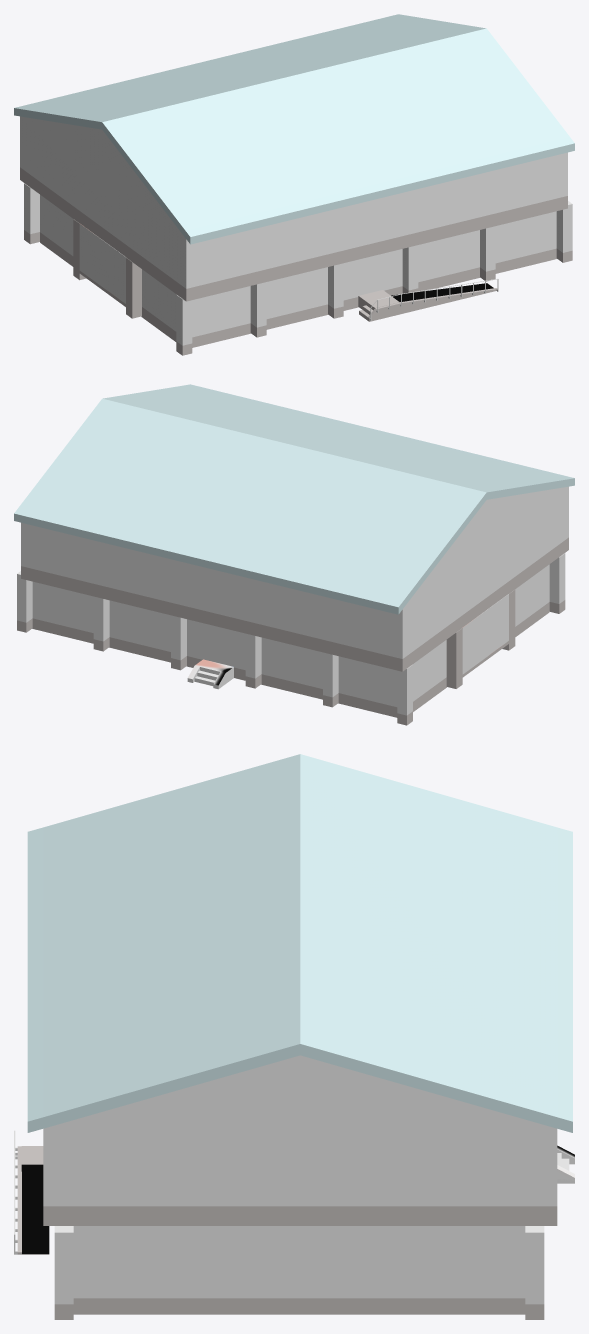
File: taiikukan.glb
3 renders of one model, top to bottom at view 1: azimuth 30°, elevation 25°; view 2: azimuth 150°, elevation 25°; view 3: azimuth 270°, elevation 25°, orthographic. The views are drawn at different scales.
Parts seen in each view (by area): view 1: 体育館屋根, 体育館本体, 体育館土台, 体育館・支柱, 体育館本体_2, 体育館・出っ張り, 体育館・真ん中出入り口土台, 体育館・真ん中出入り口手すり土台; view 2: 体育館屋根, 体育館本体, 体育館土台, 体育館・支柱, 体育館本体_2, 体育館・出っ張り, 体育館・真ん中出入り口・反対側・階段; view 3: 体育館屋根, 体育館本体, 体育館土台, 体育館本体_2, 体育館・支柱, 体育館・真ん中出入り口土台.
Boxes of the visible parts, x1=… form: 体育館屋根: x1=14, y1=14, x2=574, y2=244; 体育館本体: x1=20, y1=116, x2=567, y2=301; 体育館土台: x1=40, y1=195, x2=556, y2=347; 体育館・支柱: x1=24, y1=183, x2=572, y2=355; 体育館本体_2: x1=23, y1=117, x2=180, y2=232; 体育館・出っ張り: x1=79, y1=223, x2=125, y2=306; 体育館・真ん中出入り口土台: x1=358, y1=283, x2=494, y2=320; 体育館・真ん中出入り口手すり土台: x1=368, y1=288, x2=497, y2=321; 体育館屋根: x1=14, y1=384, x2=574, y2=614; 体育館本体: x1=21, y1=486, x2=568, y2=671; 体育館土台: x1=32, y1=564, x2=549, y2=717; 体育館・支柱: x1=17, y1=553, x2=565, y2=725; 体育館本体_2: x1=408, y1=487, x2=565, y2=602; 体育館・出っ張り: x1=462, y1=594, x2=508, y2=677; 体育館・真ん中出入り口・反対側・階段: x1=187, y1=659, x2=233, y2=689; 体育館屋根: x1=27, y1=754, x2=572, y2=1132; 体育館本体: x1=43, y1=1125, x2=557, y2=1225; 体育館土台: x1=73, y1=1226, x2=525, y2=1314; 体育館本体_2: x1=55, y1=1055, x2=545, y2=1125; 体育館・支柱: x1=54, y1=1226, x2=544, y2=1319; 体育館・真ん中出入り口土台: x1=21, y1=1146, x2=49, y2=1254.
Size of the model in its own units: 8.88 by 3.82 by 7.14.
1 material, 1 textured.
